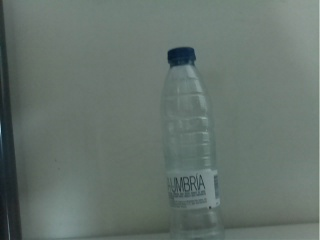botella plastico: (162, 45, 222, 240)
